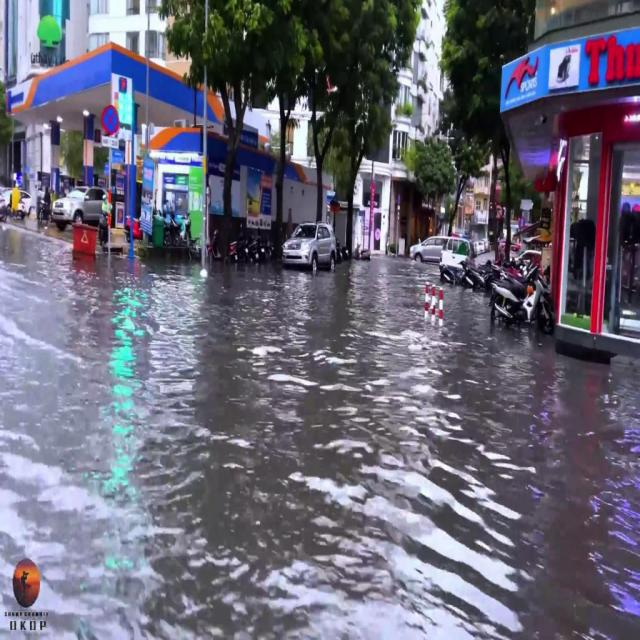cam_dung_xe_va_do_xe: (102, 105, 120, 135)
khac: (100, 136, 118, 148)
